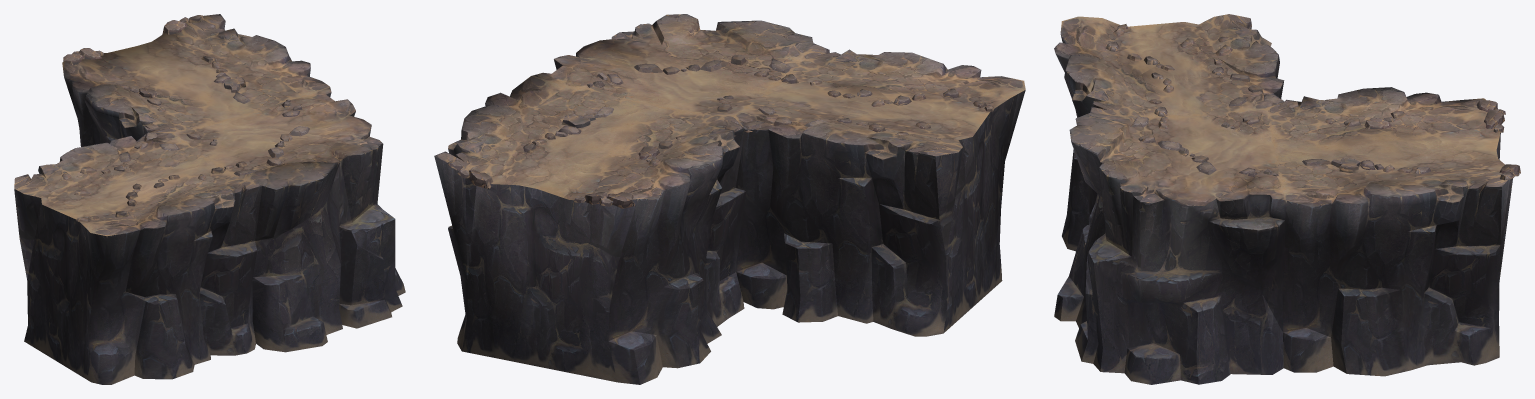
3 views of the same model, side by side, from view 1: azimuth 30°, elevation 25°; view 2: azimuth 150°, elevation 25°; view 3: azimuth 270°, elevation 25° (orthographic). The views are drawn at different scales.
Parts seen in each view (by area): view 1: 58025_02; view 2: 58025_02; view 3: 58025_02.
Part boxes in pixels (<box>): 58025_02: <box>14,14,405,384</box>; 58025_02: <box>434,14,1025,384</box>; 58025_02: <box>1054,14,1520,384</box>.
Size of the model in its own units: 3048 by 1348 by 3088.
